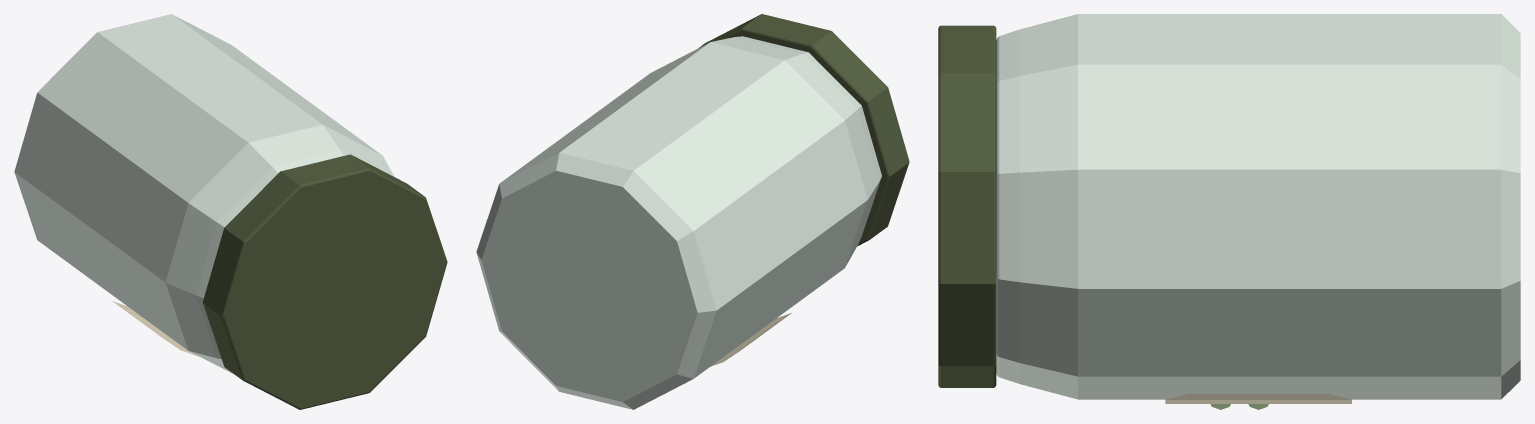
Rendered from pesto.glb.
3 views of the same model, side by side, from view 1: azimuth 30°, elevation 25°; view 2: azimuth 150°, elevation 25°; view 3: azimuth 270°, elevation 25° (orthographic). The views are drawn at different scales.
Parts seen in each view (by area): view 1: pesto; view 2: pesto; view 3: pesto.
Part boxes in pixels (x1,y1,x2,y2): pesto: (14,14,447,409); pesto: (476,14,909,409); pesto: (938,14,1520,409).
Bounding box in the file's own units: 0.06 × 0.0602 × 0.09.
